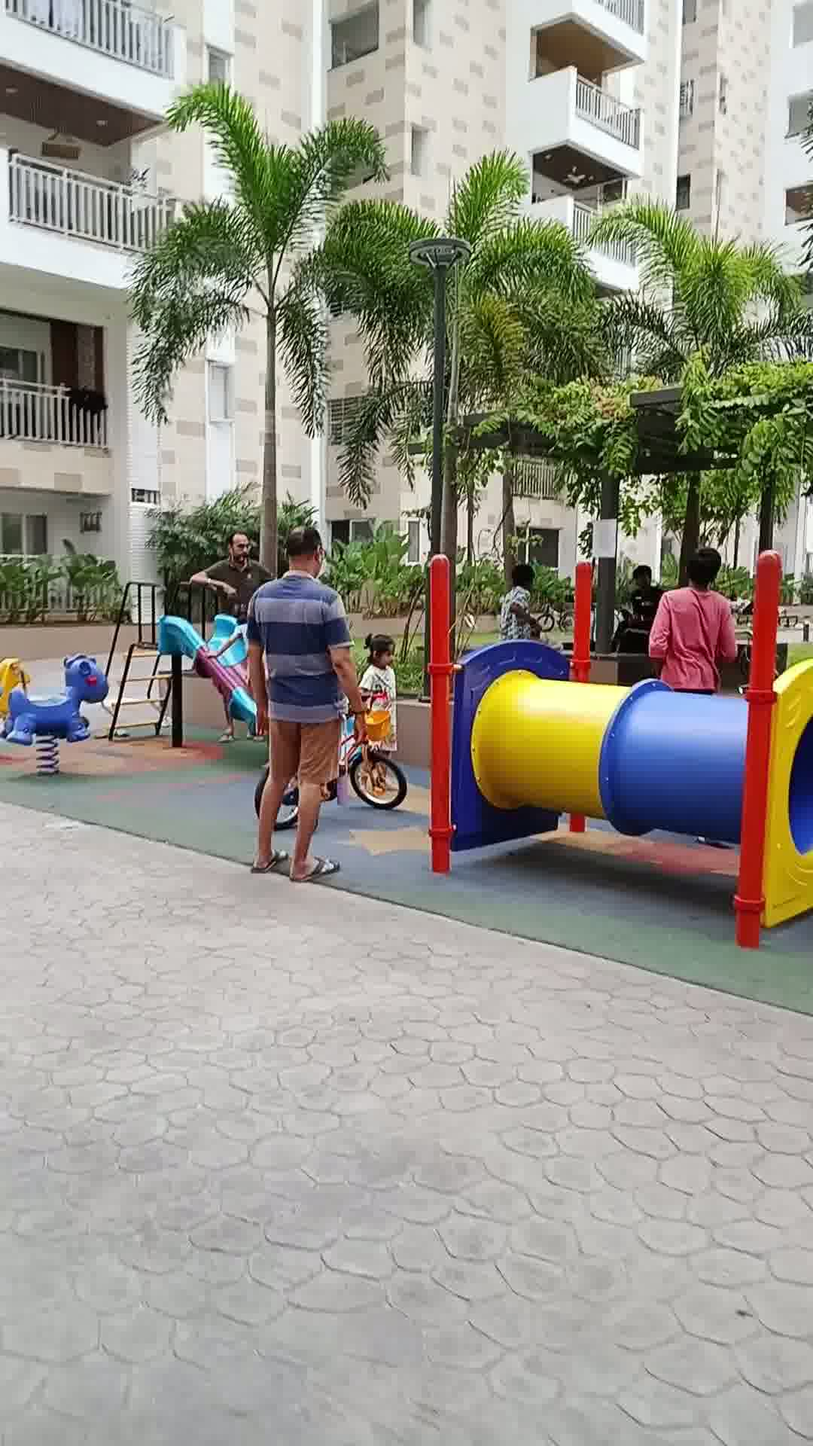bicycle: (270, 683, 401, 843)
person: (253, 490, 376, 899), (176, 512, 267, 680), (654, 532, 737, 689), (361, 626, 424, 774), (612, 547, 660, 689), (504, 547, 552, 652)
tree: (128, 60, 376, 609), (327, 159, 529, 581), (575, 182, 751, 603)
